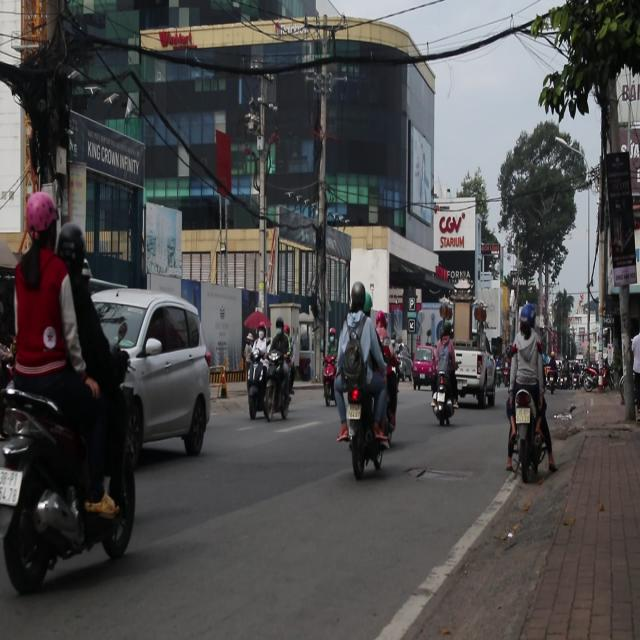car: (86, 286, 214, 458), (455, 346, 497, 408), (411, 350, 434, 391)
motorbike: (0, 365, 140, 599), (341, 379, 388, 482), (508, 384, 550, 492), (264, 356, 300, 428), (429, 354, 459, 427), (242, 350, 268, 423), (321, 356, 336, 408), (398, 352, 414, 384)
